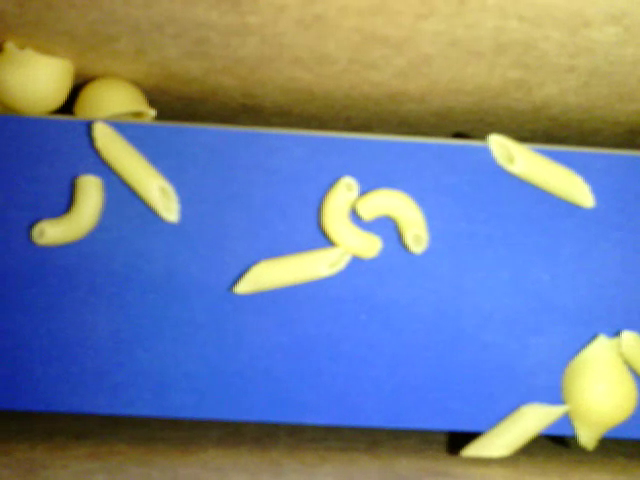elbow: (29, 174, 103, 246), (319, 174, 381, 259), (354, 187, 428, 254)
penne: (91, 119, 179, 222), (487, 133, 593, 206), (458, 400, 568, 459), (231, 244, 355, 293)
shell: (562, 331, 636, 450), (1, 41, 77, 116), (73, 77, 157, 118)
